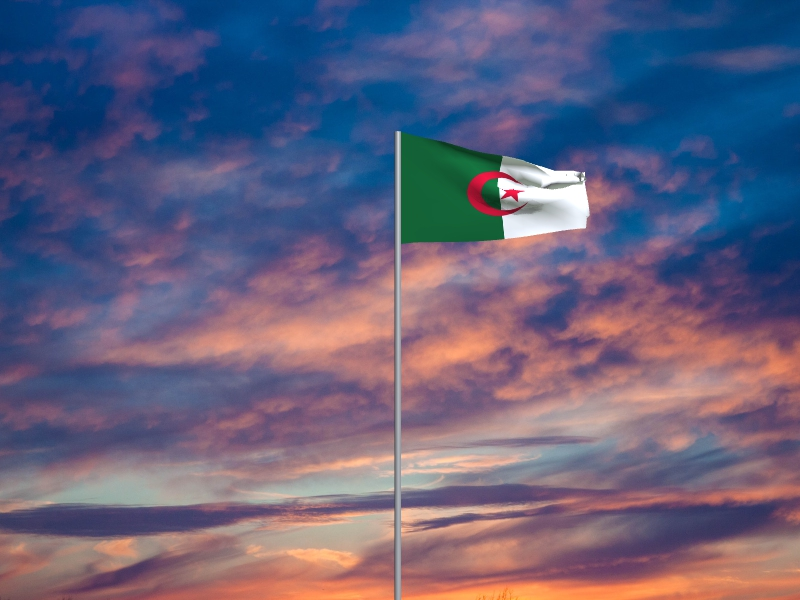dz: (402, 133, 592, 245)
